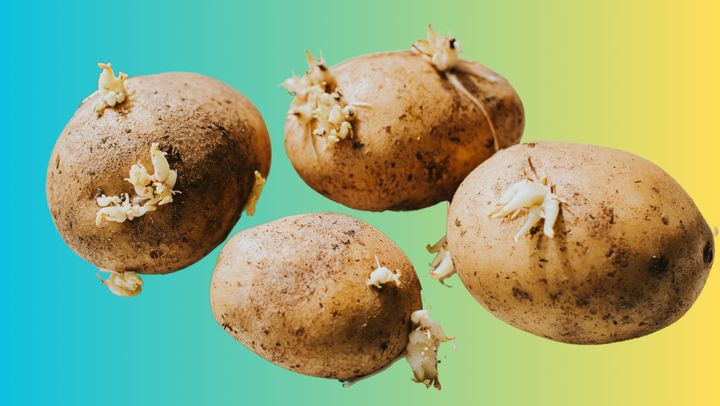potato: (41, 57, 275, 301)
